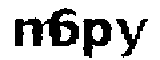6: (50, 7, 78, 50)
m: (10, 14, 58, 52)
p: (81, 18, 113, 60)
y: (115, 15, 148, 60)
